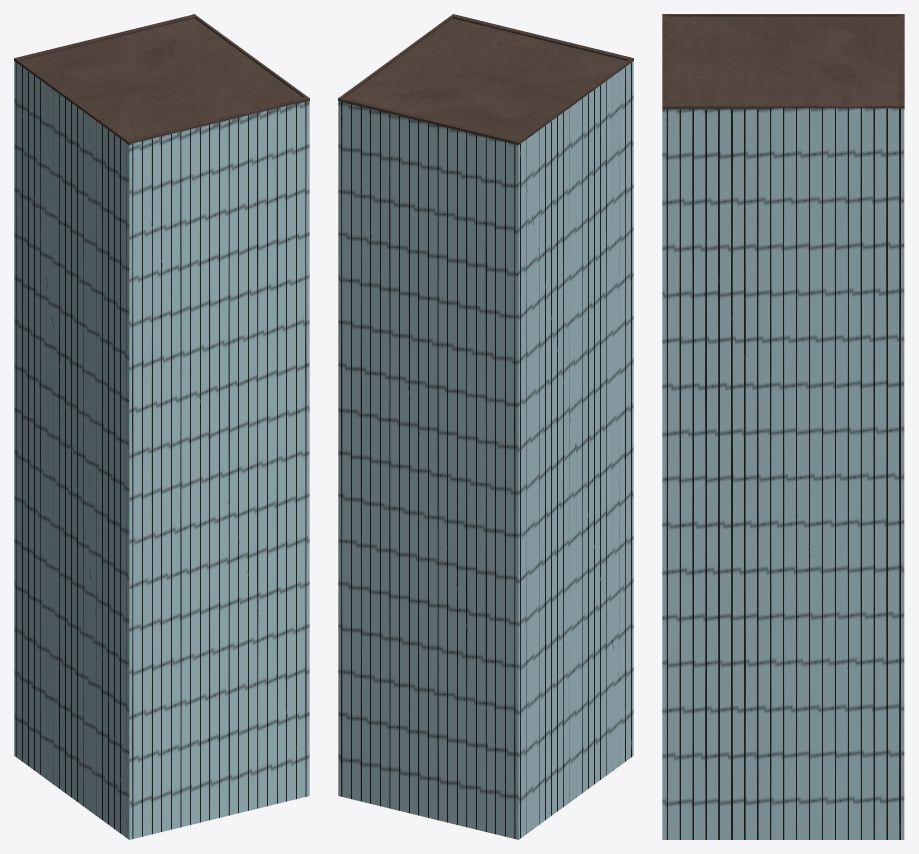
Rendered from build13.fbx.
3 renders of one model, left to right at view 1: azimuth 30°, elevation 25°; view 2: azimuth 150°, elevation 25°; view 3: azimuth 270°, elevation 25°, orthographic. The views are drawn at different scales.
Parts seen in each view (by area): view 1: Construction_Building; view 2: Construction_Building; view 3: Construction_Building.
Boxes of the visible parts, x1,y1,x2,y2 form: Construction_Building: (14, 14, 309, 839); Construction_Building: (338, 14, 633, 839); Construction_Building: (662, 14, 904, 839).
Size of the model in its own units: 269 by 993 by 297.
1 material, 1 textured.
